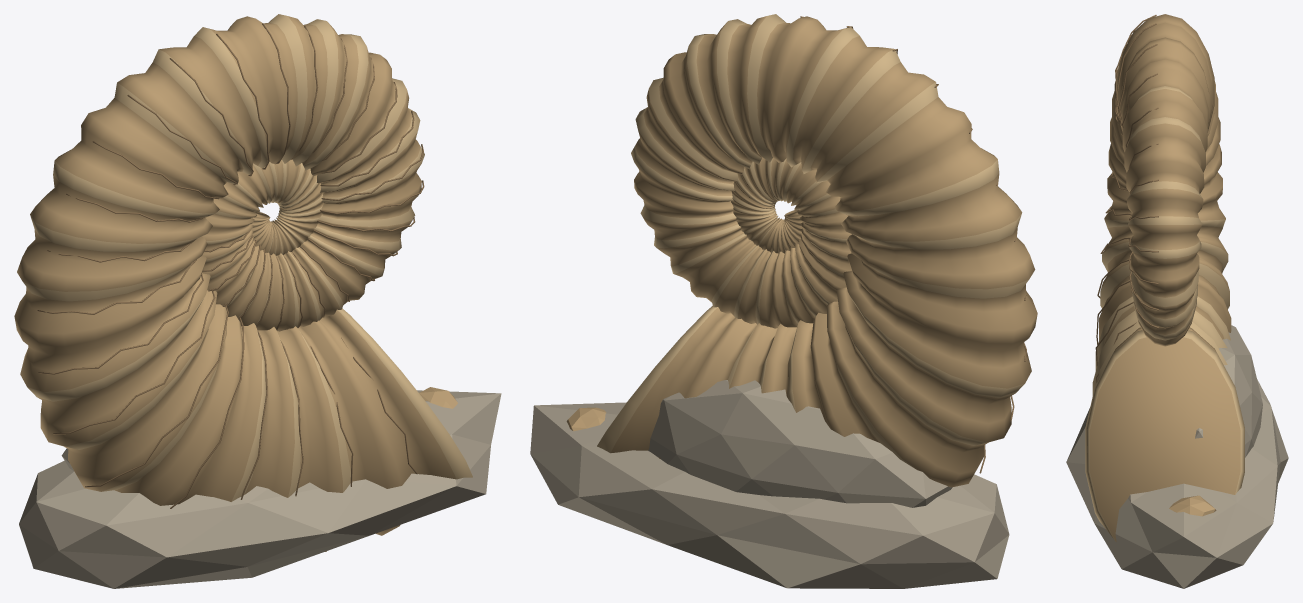
The model's file is FossilAmmonite.fbx.
3 renders of one model, left to right at view 1: azimuth 30°, elevation 25°; view 2: azimuth 150°, elevation 25°; view 3: azimuth 270°, elevation 25°, orthographic. The views are drawn at different scales.
Visible parts, largest first — view 1: FossilAmmonite_FossilLimestone, FossilAmmonite_MatrixWeathering, FossilAmmonite_FossilSuture; view 2: FossilAmmonite_FossilLimestone, FossilAmmonite_MatrixWeathering, FossilAmmonite_FossilLimestone.001; view 3: FossilAmmonite_FossilLimestone, FossilAmmonite_MatrixWeathering, FossilAmmonite_FossilSuture, FossilAmmonite_FossilLimestone.001.
Boxes of the visible parts, bbox=[...] form: FossilAmmonite_FossilLimestone: bbox=[14, 14, 472, 551]; FossilAmmonite_MatrixWeathering: bbox=[19, 390, 501, 588]; FossilAmmonite_FossilSuture: bbox=[37, 23, 424, 508]; FossilAmmonite_FossilLimestone: bbox=[597, 14, 1037, 487]; FossilAmmonite_MatrixWeathering: bbox=[530, 380, 1009, 588]; FossilAmmonite_FossilLimestone.001: bbox=[566, 407, 606, 431]; FossilAmmonite_FossilLimestone: bbox=[1085, 14, 1244, 541]; FossilAmmonite_MatrixWeathering: bbox=[1066, 325, 1288, 588]; FossilAmmonite_FossilSuture: bbox=[1095, 15, 1159, 382]; FossilAmmonite_FossilLimestone.001: bbox=[1169, 495, 1216, 516].
Bounding box in the file's own units: 0.9465 × 1 × 0.4269.
